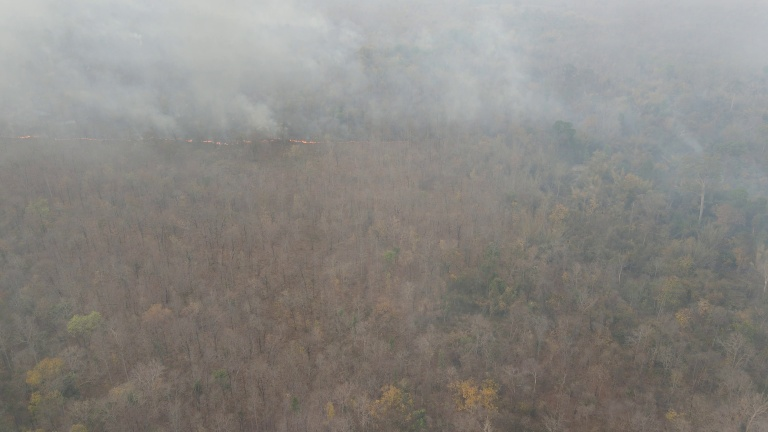fire: (11, 130, 335, 153)
smoke: (3, 1, 768, 165)
